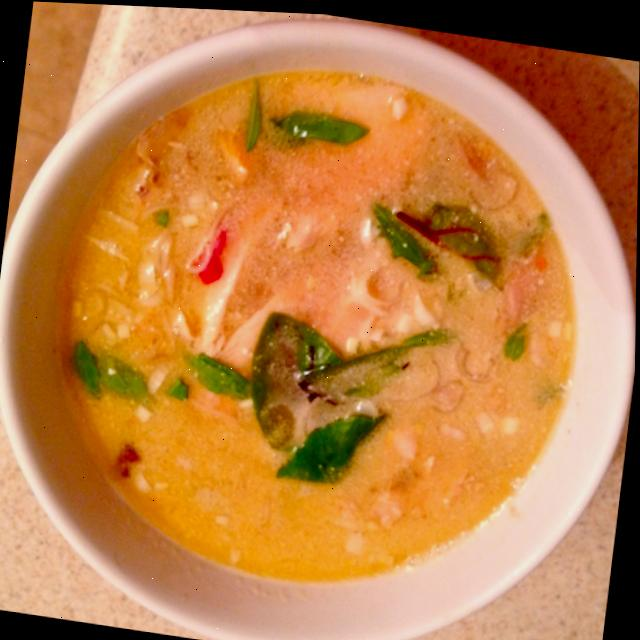汤锅炖物: (0, 3, 640, 640)
